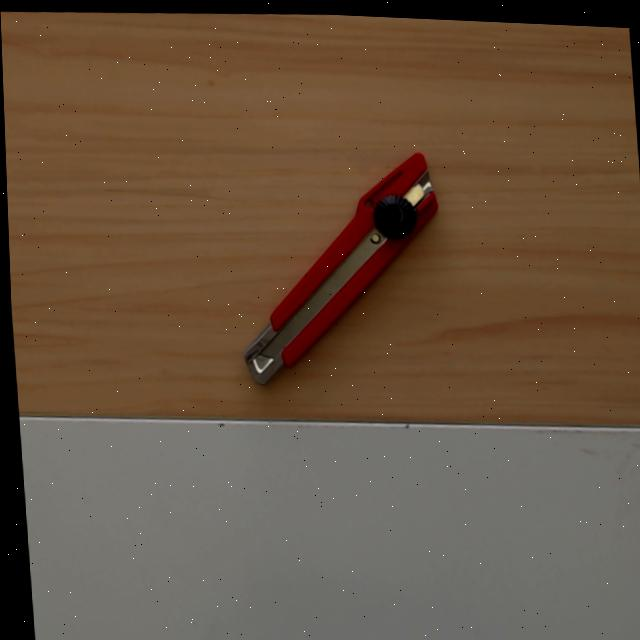Cutter-Besar: (218, 142, 461, 393)
